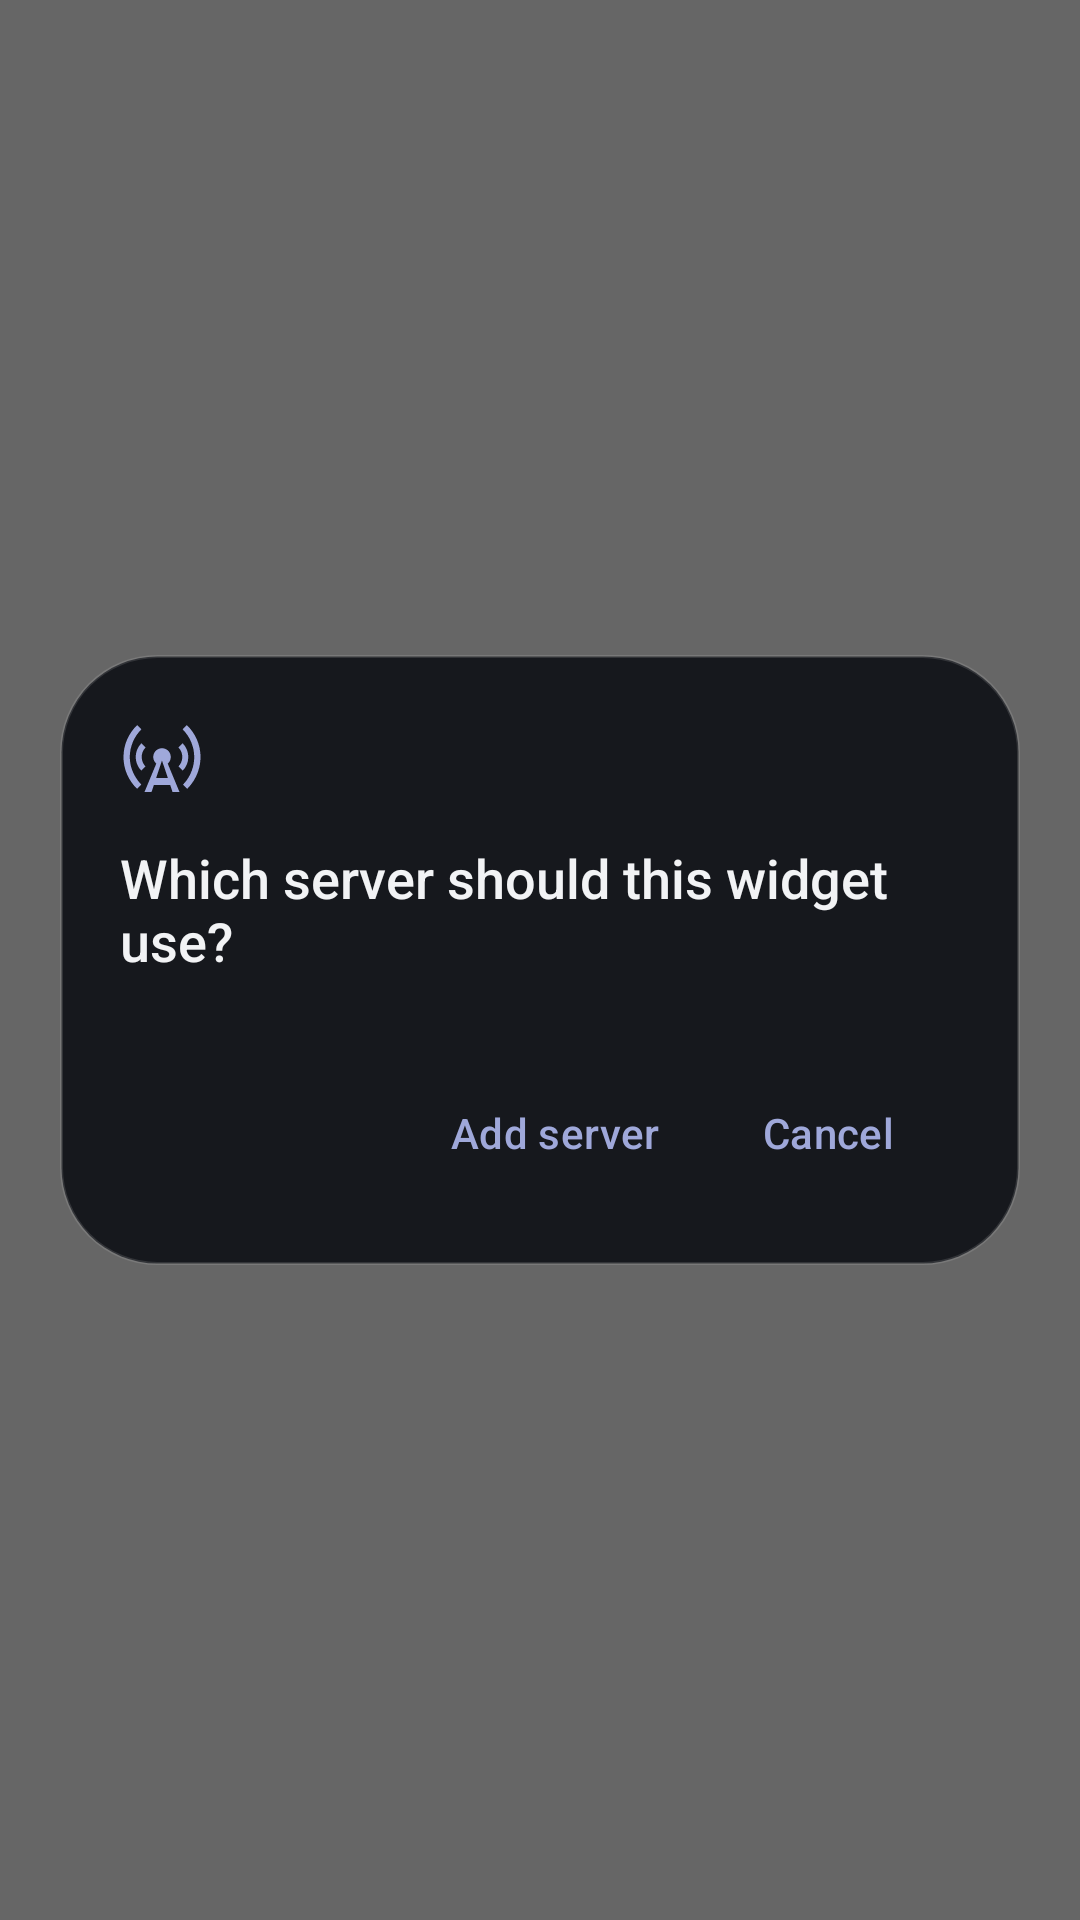

Screen size 1080x1920. Icon name, then its center in pixels as point (x, y):
funk tower: point (162, 758)
